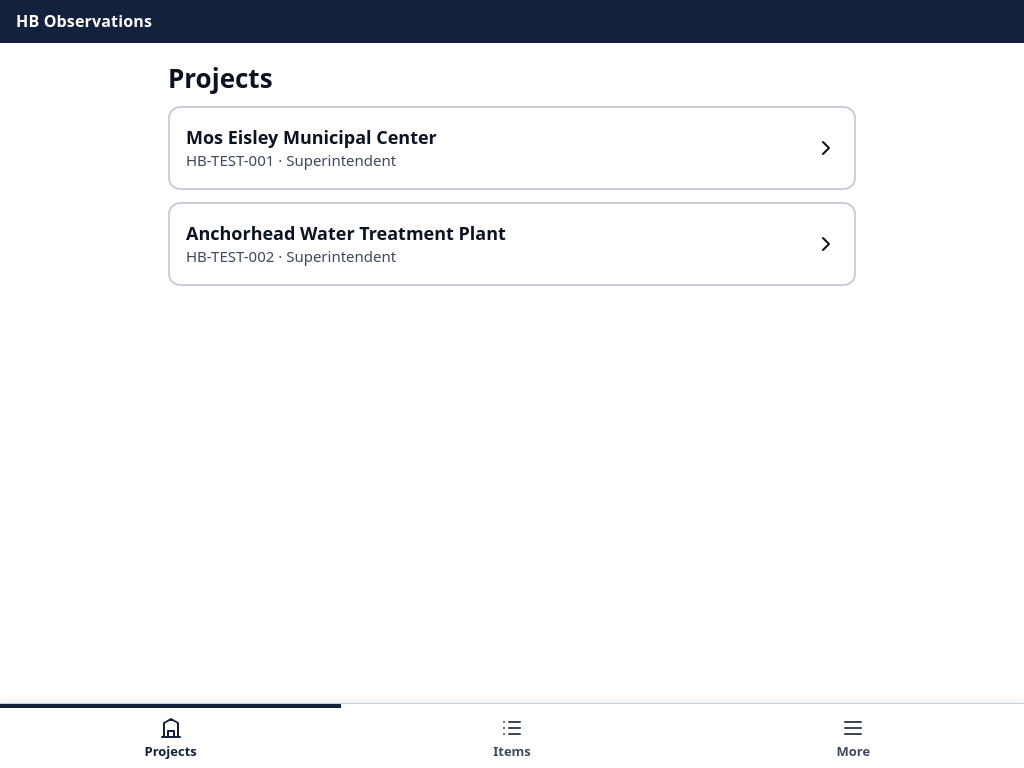
Test: session and navigation › opens a project and offers New Item
Click the link "Mos Eisley Municipal Center HB-TEST-001 · Superintendent" at (311, 137), box x1=168 y1=106 x2=856 y2=190
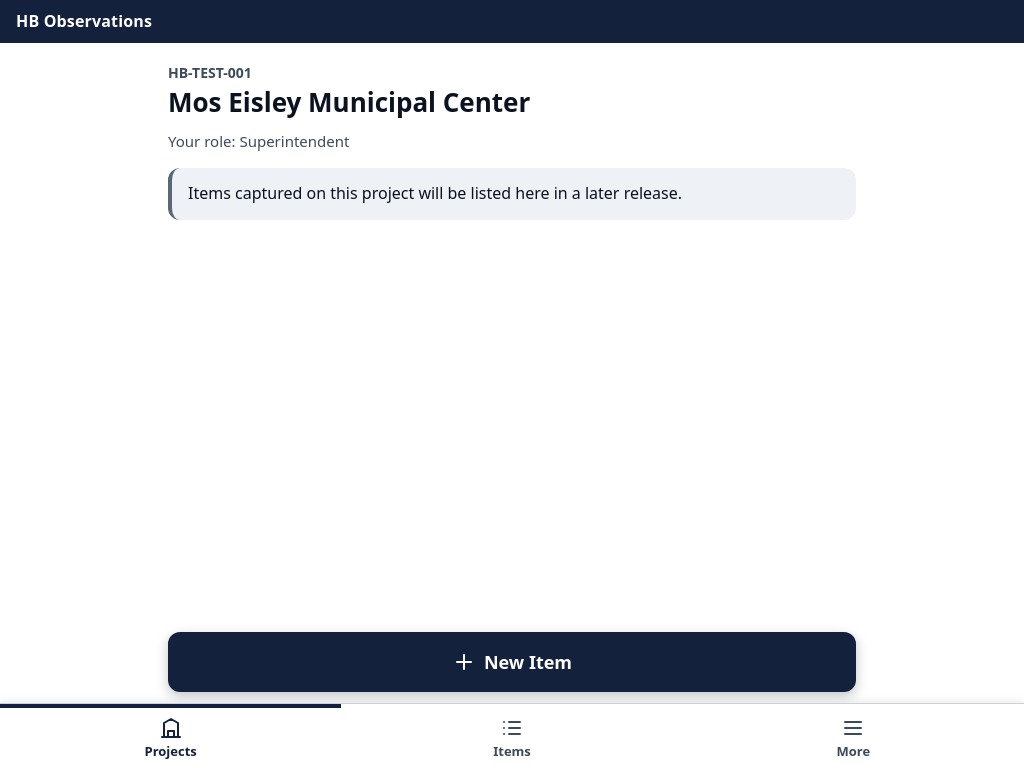
Expected: the heading "Mos Eisley Municipal Center" is shown, x1=168 y1=84 x2=530 y2=120
